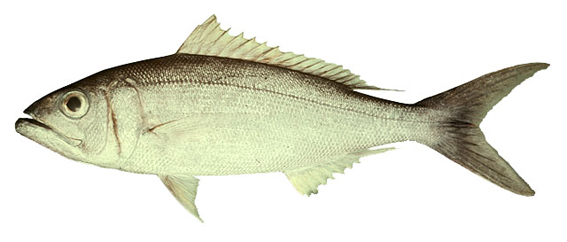fish: (15, 14, 550, 222)
